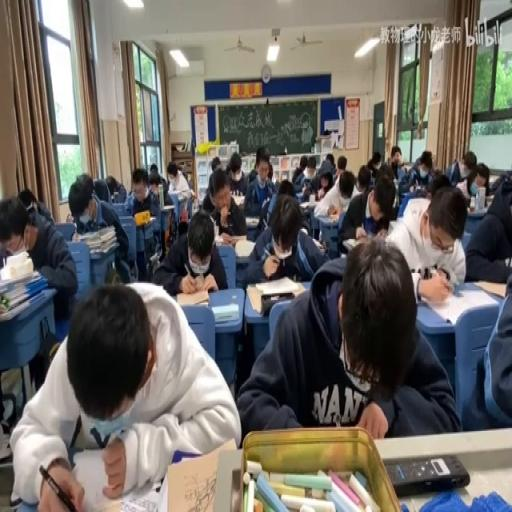calculator: (162, 441, 236, 512), (78, 462, 160, 509), (386, 454, 470, 496), (420, 282, 493, 326), (246, 281, 302, 313), (0, 289, 45, 320), (0, 265, 38, 294), (474, 279, 506, 300), (175, 287, 210, 306), (212, 300, 238, 322), (234, 238, 256, 258), (307, 234, 326, 252), (466, 206, 487, 215), (149, 249, 159, 267), (230, 194, 244, 206), (174, 189, 188, 201), (245, 214, 260, 224), (344, 238, 359, 248), (213, 233, 224, 245), (294, 188, 306, 199), (485, 194, 493, 208), (160, 204, 174, 210), (299, 201, 309, 209)
paper: (13, 277, 237, 509), (236, 242, 454, 439), (386, 183, 466, 296), (238, 194, 324, 284), (68, 170, 130, 284), (152, 209, 226, 296), (464, 176, 512, 283), (338, 166, 380, 250), (200, 168, 246, 240), (243, 148, 275, 220), (126, 166, 162, 228), (165, 158, 191, 232), (398, 148, 434, 196), (302, 154, 332, 198), (18, 188, 54, 224), (446, 149, 476, 188), (104, 173, 126, 202), (290, 155, 306, 189), (428, 171, 450, 195), (490, 170, 510, 194), (377, 162, 396, 186), (366, 149, 380, 175), (226, 154, 242, 176), (357, 165, 371, 188), (276, 179, 294, 196), (475, 168, 488, 190), (390, 146, 402, 164), (337, 154, 346, 172), (210, 155, 220, 171), (167, 168, 178, 182), (247, 168, 257, 183), (325, 154, 334, 169), (148, 162, 158, 175), (149, 179, 159, 192), (266, 164, 272, 179), (66, 212, 74, 222), (322, 128, 330, 134)
person: (228, 466, 241, 510)
